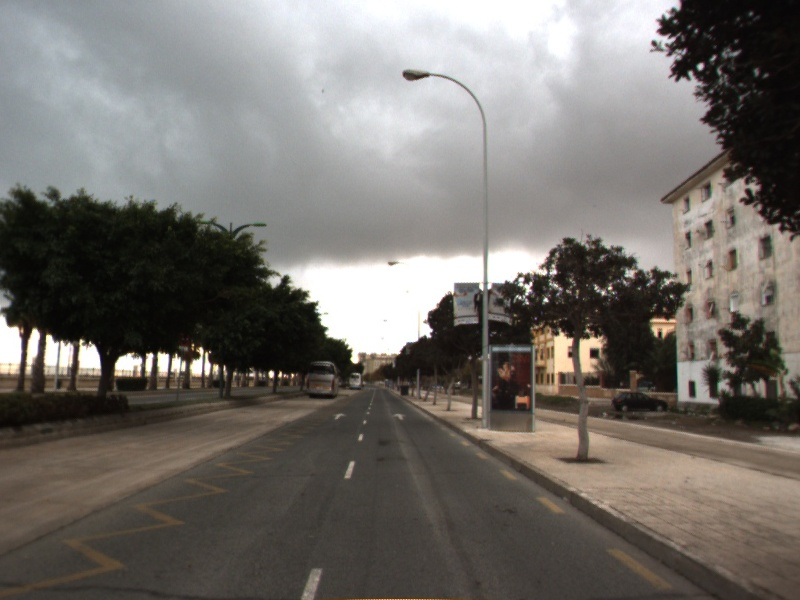STRAIGHT: (390, 411, 409, 422), (331, 411, 348, 421)
